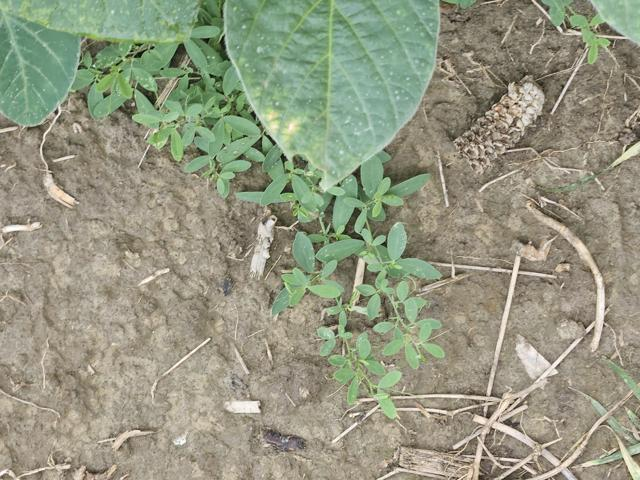bad weed: (101, 58, 440, 393)
